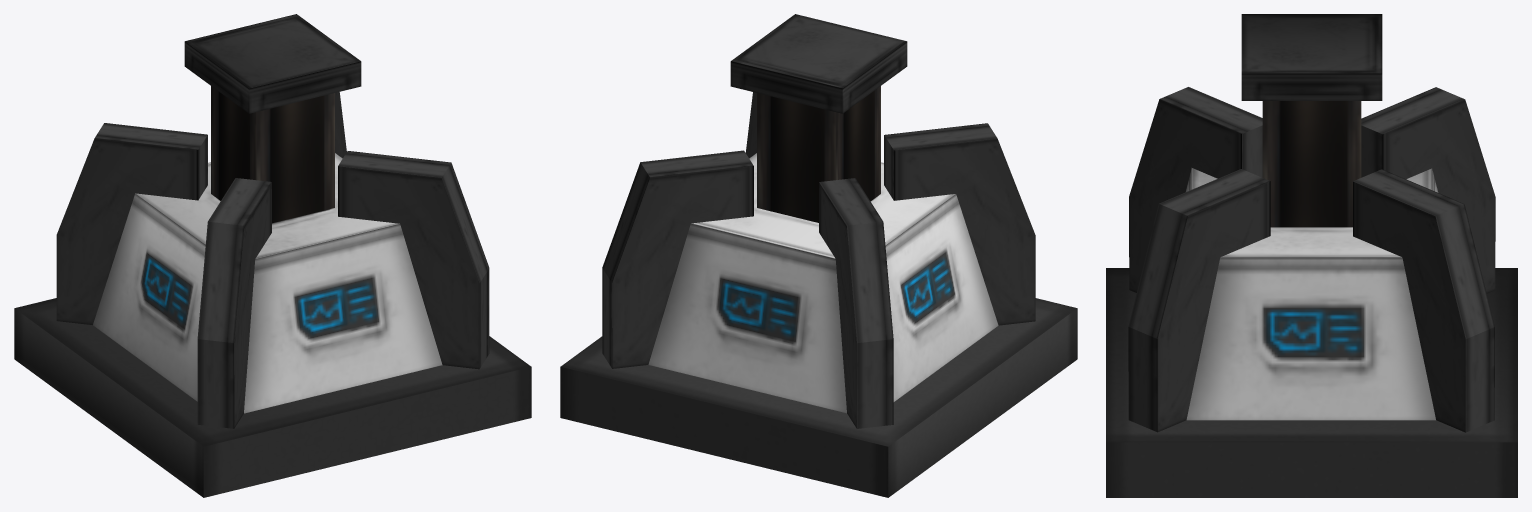
File: phase_gen_1.obj
3 renders of one model, left to right at view 1: azimuth 30°, elevation 25°; view 2: azimuth 150°, elevation 25°; view 3: azimuth 270°, elevation 25°, orthographic. The views are drawn at different scales.
Visible parts, largest first — view 1: ip_gen_1; view 2: ip_gen_1; view 3: ip_gen_1.
Boxes of the visible parts, <box> form: ip_gen_1: <box>14,14,531,497</box>; ip_gen_1: <box>560,14,1077,497</box>; ip_gen_1: <box>1106,14,1517,497</box>.
Size of the model in its own units: 1 by 0.9834 by 1.
